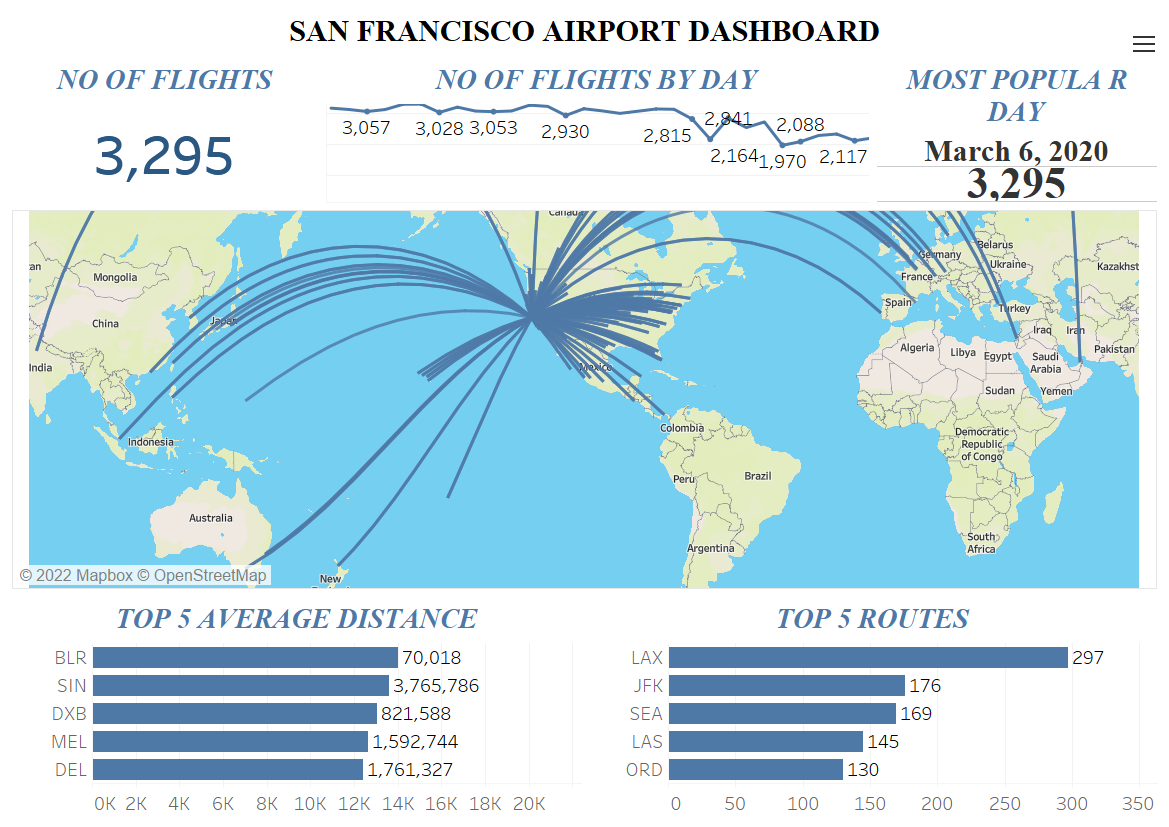

The dashboard page shown, as its layout file describes it:
{"tool":"tableau","page":{"name":"Dashboard 1","canvas":[1169,827],"ordinal":0},"visuals":[{"type":"text","box":[8,8,1153,46]},{"type":"dashboard-object","box":[1132,32,24,24]},{"type":"filter","title":"ROUTES","param":"[federated.1hibxhh1ykywxf1czdoaf1qqcc68].[none:Route:nk]","box":[1001,34,160,194]},{"type":"worksheet","title":"NO OF FLIGHTS","mark":"Automatic","box":[8,54,314,152]},{"type":"worksheet","title":"NO OF FLIGHTS BY DAY","mark":"Automatic","rows":["Number of Records"],"cols":["Date"],"box":[322,54,550.8,152]},{"type":"worksheet","title":"MOST POPULAR DAY","mark":"Text","cols":["Date"],"box":[872.8,54,288.3,152]},{"type":"worksheet","title":"MAP","mark":"Automatic","box":[8,206,1153,387]},{"type":"filter","title":"DISTANCE","param":"[federated.1hibxhh1ykywxf1czdoaf1qqcc68].[sum:Calculation_802203744892637188:qk]","box":[1001,228,160,79]},{"type":"worksheet","title":"DISTANCE","mark":"Automatic","rows":["Calculation_802203744889806849"],"cols":["Calculation_802203744892637188"],"box":[8,593,576.5,226]},{"type":"worksheet","title":"ROUTES","mark":"Automatic","rows":["Calculation_802203744889806849"],"cols":["Number of Records"],"box":[584.5,593,576.5,226]}]}

Visuals, with their boxes in screenshot pixels (x1, y1, x2, y2), scaled from the page's 1169x827 canvas onto the 1169x827 screenshot:
text: region(8, 8, 1161, 54)
dashboard-object: region(1132, 32, 1156, 56)
"ROUTES" filter: region(1001, 34, 1161, 228)
"NO OF FLIGHTS" worksheet: region(8, 54, 322, 206)
"NO OF FLIGHTS BY DAY" worksheet: region(322, 54, 873, 206)
"MOST POPULAR DAY" worksheet (Text marks): region(873, 54, 1161, 206)
"MAP" worksheet: region(8, 206, 1161, 593)
"DISTANCE" filter: region(1001, 228, 1161, 307)
"DISTANCE" worksheet: region(8, 593, 584, 819)
"ROUTES" worksheet: region(584, 593, 1161, 819)
